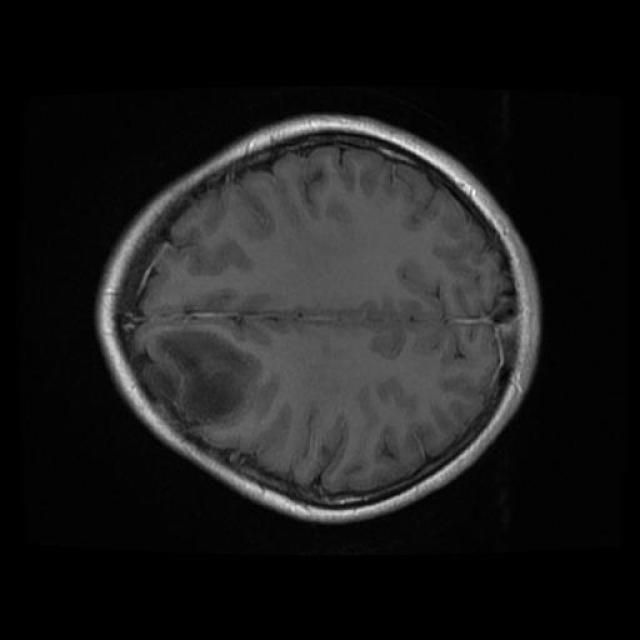Glioma: (148, 328, 261, 426)
